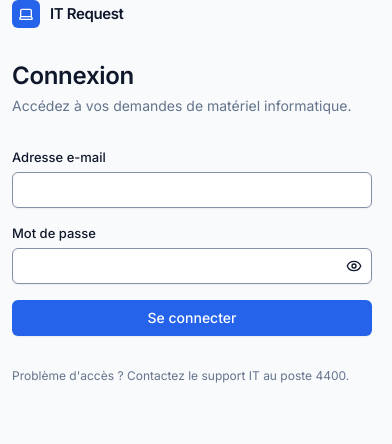
Test: PageConnexion › affiche les erreurs des champs vides sans appeler la connexion
Click the button "Se connecter" at [192, 318], box top-left (12, 300), bottom-right (372, 336)
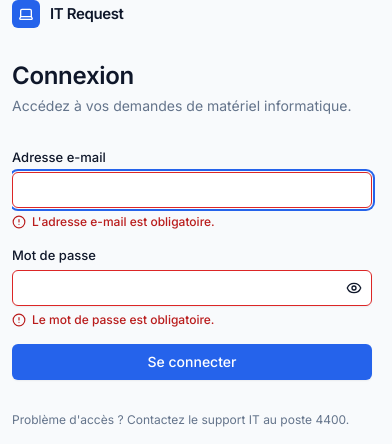
Expected: the text "L'adresse e-mail est obligatoire." is shown, top-left (12, 214), bottom-right (215, 229)
Expected: the text "Le mot de passe est obligatoire." is shown, top-left (12, 312), bottom-right (214, 327)
